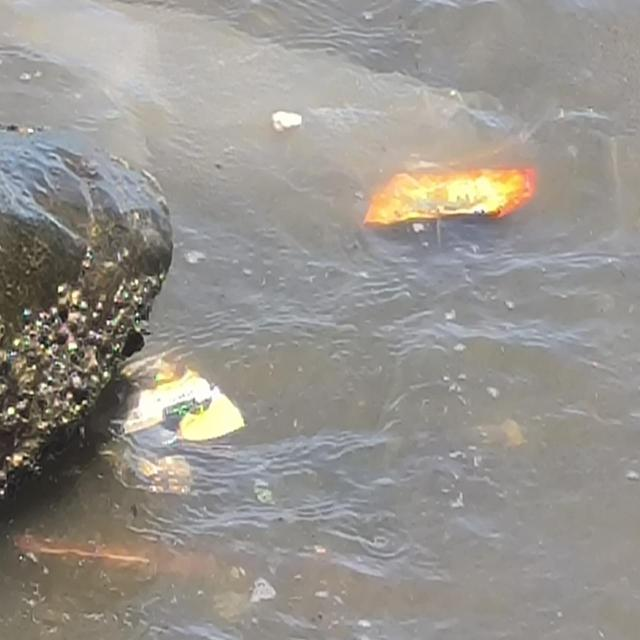plastic_waste: (362, 166, 538, 228), (122, 359, 246, 445)
